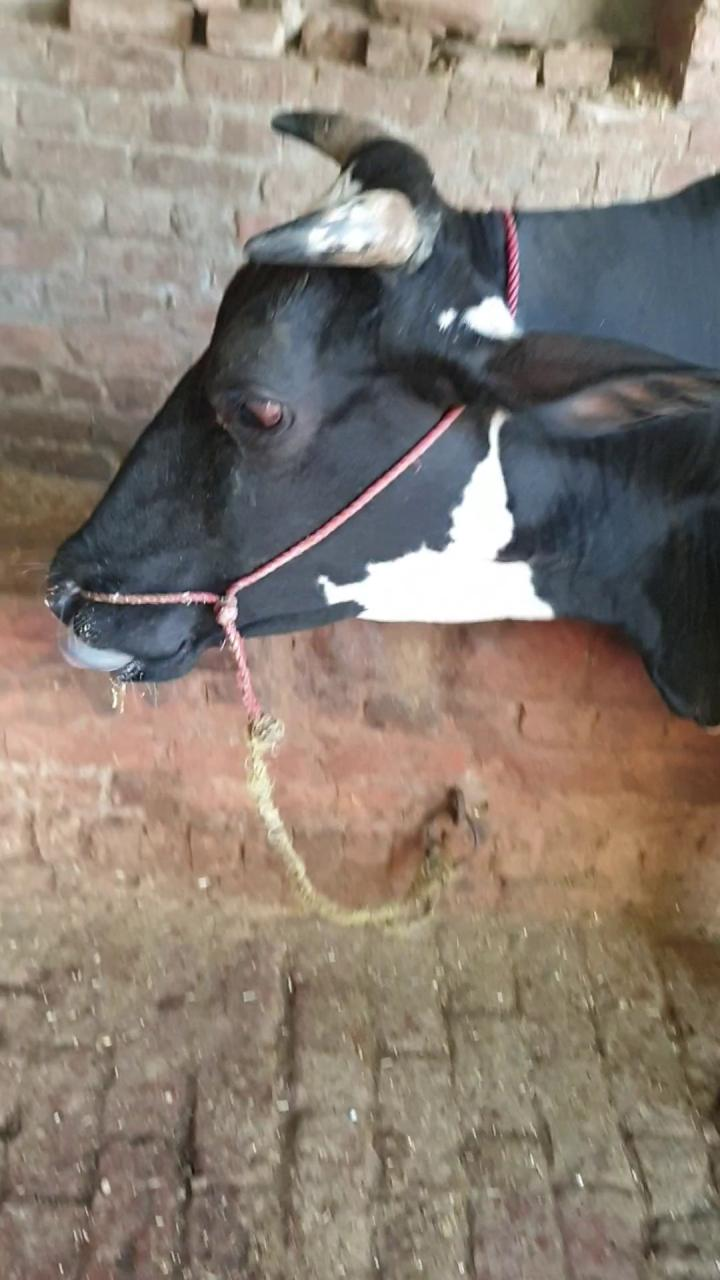cows: (37, 172, 393, 712)
